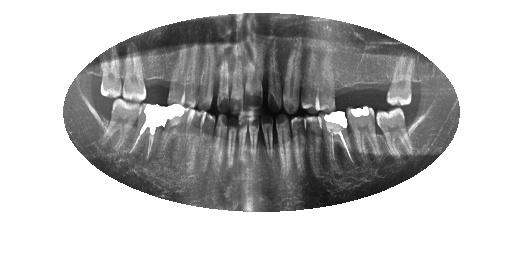i10decay: (225, 115, 241, 172)
i11decay: (212, 113, 230, 171)
i12healthy: (197, 108, 216, 173)
i13healthy: (184, 104, 204, 170)
i14healthy: (155, 101, 191, 166)
i15healthy: (128, 100, 167, 166)
i16healthy: (100, 96, 144, 155)
i1healthy: (374, 105, 417, 163)
i2healthy: (345, 102, 380, 167)
i3healthy: (318, 108, 356, 177)
i4healthy: (301, 112, 328, 180)
i5healthy: (288, 112, 310, 180)
i6decay: (272, 111, 295, 181)
i7decay: (257, 113, 279, 167)
i8decay: (243, 113, 262, 166)
i9decay: (236, 111, 249, 164)
u10decay: (215, 42, 234, 115)
u11decay: (195, 40, 216, 112)
u12chipped: (182, 35, 200, 106)
u13healthy: (165, 42, 188, 105)
u14loss: (143, 42, 171, 103)
u15healthy: (118, 38, 149, 103)
u16healthy: (96, 44, 124, 100)
u1healthy: (382, 46, 420, 108)
u2healthy: (365, 51, 390, 106)
u3healthy: (335, 45, 366, 108)
u4healthy: (316, 47, 337, 113)
u5healthy: (298, 47, 321, 113)
u6healthy: (282, 38, 302, 115)
u7decay: (264, 39, 288, 116)
u8decay: (241, 41, 267, 113)
u9decay: (226, 42, 247, 117)
